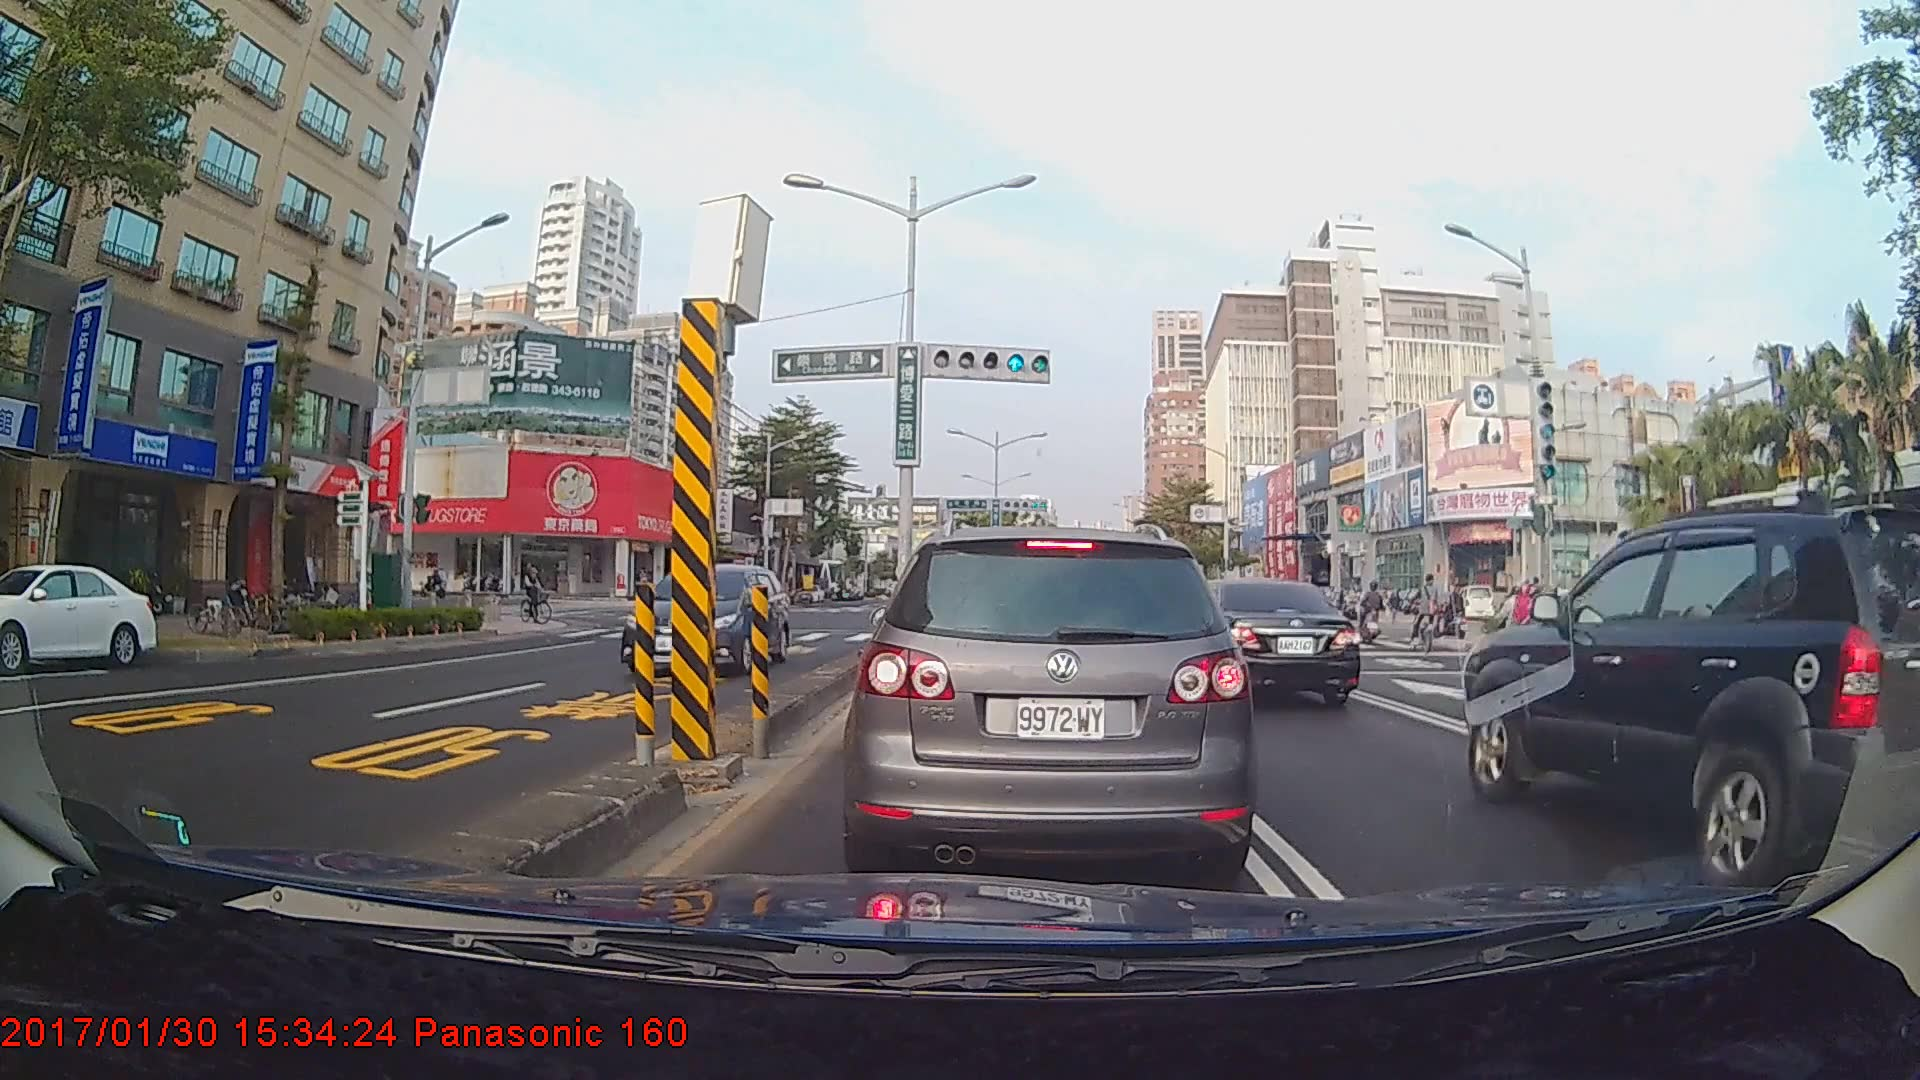rider: (1410, 570, 1446, 658), (518, 559, 561, 629), (1436, 582, 1473, 646), (427, 563, 451, 603)
vehicle: (1464, 504, 1919, 878), (851, 522, 1248, 879), (1163, 575, 1363, 706), (624, 561, 792, 679), (0, 561, 156, 671)
